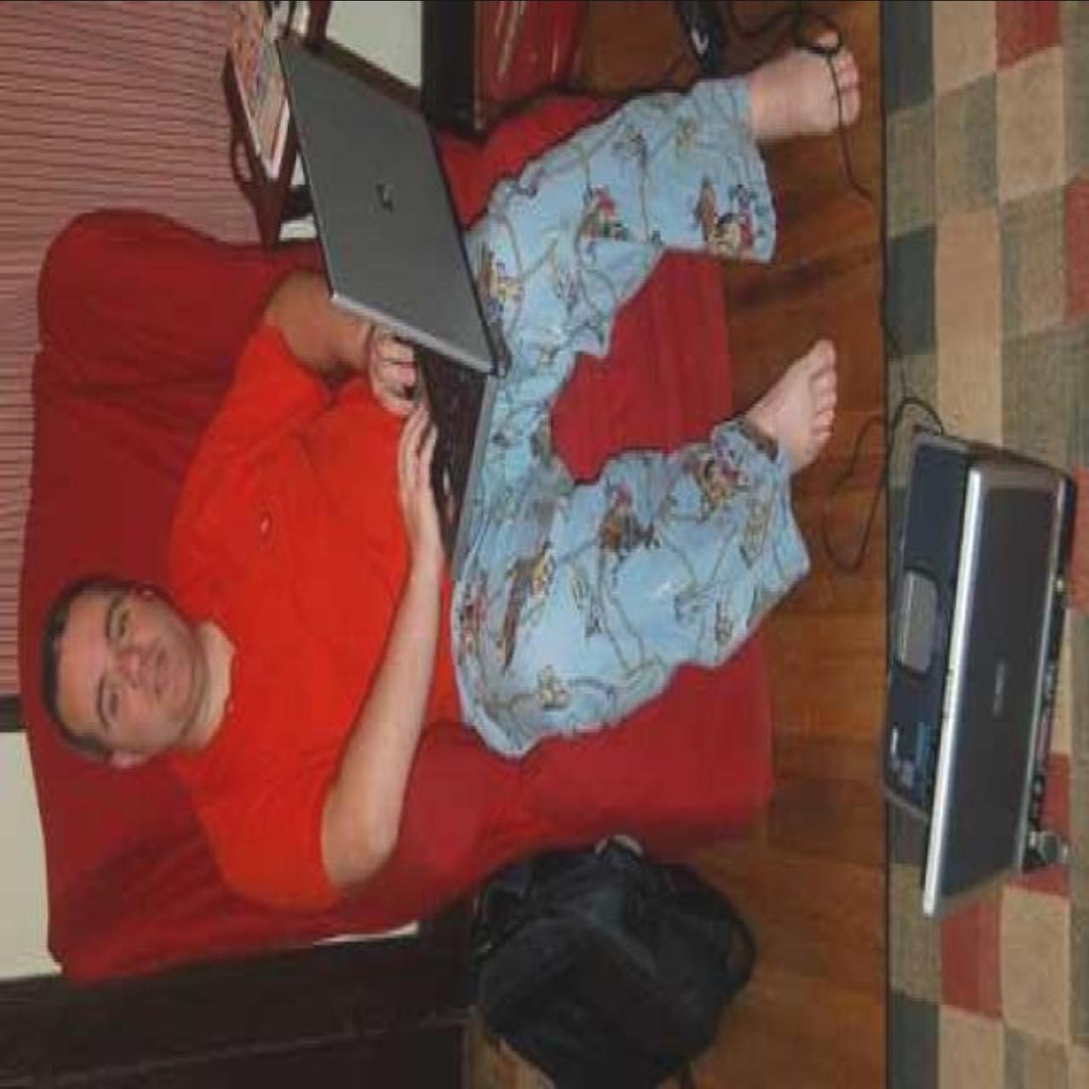laptop: (842, 337, 1084, 922), (285, 33, 498, 368)
